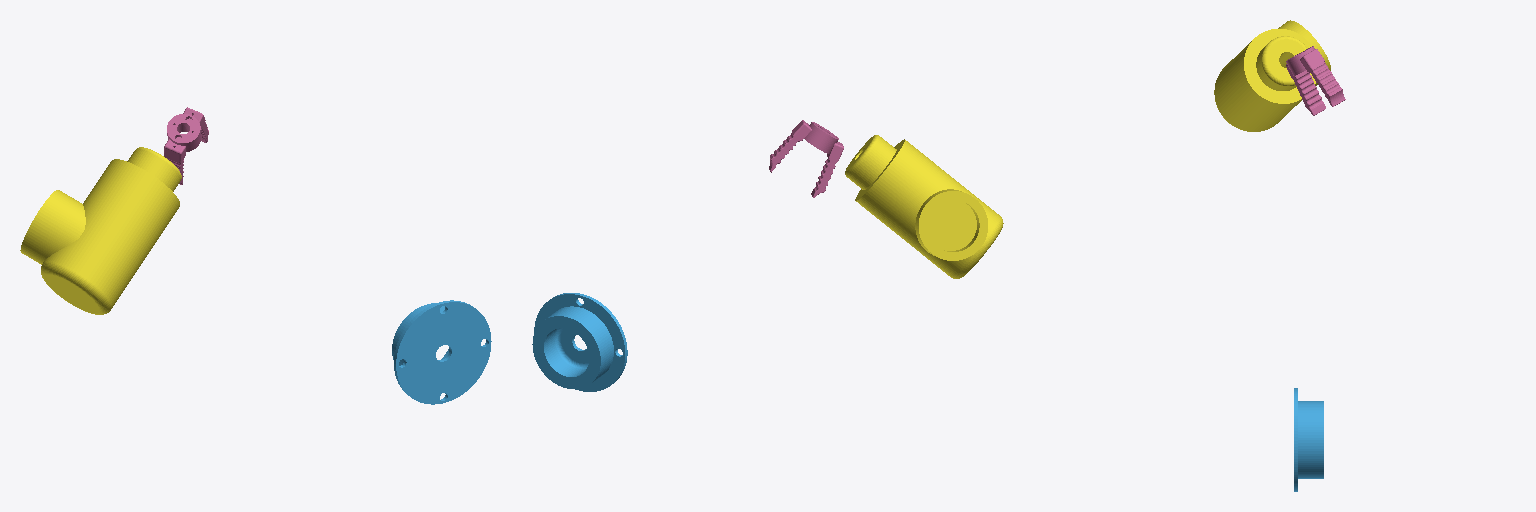
The robot description file, URDF, robot "cobot":
<?xml version="1.0" encoding="utf-8"?>
<robot name="cobot">
  <link name="world" />
  <joint name="world_to_base" type="fixed">
    <parent link="world" />
    <child link="Body-Part1" />
    <origin xyz="0 0 0" rpy="0 0 0" />
  </joint>
  <link name="Body-Part1">
    <inertial>
      <origin xyz="-0.1798447952718103 0.022925426242011514 0.05601229960108434" rpy="0.0 0.0 0.0" />
      <mass value="422.4347651248121" />
      <inertia ixx="9.896088052743277" iyy="20.291431120539166" izz="17.448775357377386" ixy="-0.006594014792010938" iyz="-0.029766263287707595" ixz="1.6908908131017018" />
    </inertial>
    <visual name="Body-Part1_visual">
      <origin xyz="0.0 0.0 0.0" rpy="0.0 0.0 0.0" />
      <geometry>
        <mesh filename="package://cobot_description/meshes/base_link.stl" scale="0.001 0.001 0.001" />
      </geometry>
    </visual>
    <collision name="Body-Part1_collision">
      <origin xyz="0.0 0.0 0.0" rpy="0.0 0.0 0.0" />
      <geometry>
        <mesh filename="package://cobot_description/meshes/base_link.stl" scale="0.001 0.001 0.001" />
      </geometry>
    </collision>
  </link>
  <link name="base_link">
    <inertial>
      <origin xyz="0.006870688994763867 -0.005531219751294145 -0.0021944495914763707" rpy="0.0 -0.0 -8.552847072295024e-50" />
      <mass value="1.283275730441828" />
      <inertia ixx="0.0016574728754616963" iyy="0.0014840837775329518" izz="0.0012156550539494941" ixy="-0.0003961949817083974" iyz="0.00012666650220438674" ixz="-0.00015712887410335172" />
    </inertial>
    <visual name="base_link_visual">
      <origin xyz="-0.0037797096782331606 0.0030422599118649883 0.001207660340673442" rpy="-0.2839560395694217 -0.5313221121934603 -2.1017094505019887" />
      <geometry>
        <mesh filename="package://cobot_description/meshes/link.stl" scale="0.001 0.001 0.001" />
      </geometry>
    </visual>
    <collision name="base_link_collision">
      <origin xyz="-0.0037797096782331606 0.0030422599118649883 0.001207660340673442" rpy="-0.2839560395694217 -0.5313221121934603 -2.1017094505019887" />
      <geometry>
        <mesh filename="package://cobot_description/meshes/link.stl" scale="0.001 0.001 0.001" />
      </geometry>
    </collision>
  </link>
  <joint name="base_mount_joint" type="fixed">
    <parent link="Body-Part1" />
    <child link="base_link" />
    <origin xyz="-0.352567 -0.001200 0.289500" rpy="1.570796 0.000000 3.141593" />
  </joint>
  <link name="Base-joint">
    <inertial>
      <origin xyz="0.07906246720197074 -0.020958663407325134 0.05969701437848556" rpy="0.0 -4.276423536147512e-50 0.0" />
      <mass value="2.718644742184274" />
      <inertia ixx="0.005113774456599884" iyy="0.00790394349393253" izz="0.006619139994444193" ixy="0.0005415750689647954" iyz="0.0006762993227225063" ixz="-0.002148051938121843" />
    </inertial>
    <visual name="Base-joint_visual">
      <origin xyz="0.026457947624332546 -0.008453644700357046 0.021295846268547792" rpy="2.4230895408976956 0.3915017115390629 0.9394914940446593" />
      <geometry>
        <mesh filename="package://cobot_description/meshes/Base-joint.stl" scale="0.001 0.001 0.001" />
      </geometry>
    </visual>
    <collision name="Base-joint_collision">
      <origin xyz="0.026457947624332546 -0.008453644700357046 0.021295846268547792" rpy="2.4230895408976956 0.3915017115390629 0.9394914940446593" />
      <geometry>
        <mesh filename="package://cobot_description/meshes/Base-joint.stl" scale="0.001 0.001 0.001" />
      </geometry>
    </collision>
  </link>
  <joint name="joint1_yaw" type="revolute">
    <parent link="base_link" />
    <child link="Base-joint" />
    <origin xyz="0.008722 0.027994 -0.006346" rpy="1.570796 0.000000 0.000000" />
    <axis xyz="-0.290729 0.211532 0.933130" />
    <limit lower="-2.9671" upper="2.9671" effort="50" velocity="3.1416" />
  </joint>
  <link name="LINK-1">
    <inertial>
      <origin xyz="0.0036172018418770824 0.1791043745725443 0.00010547726635438959" rpy="0.0 0.0 0.0" />
      <mass value="2.0935672304320274" />
      <inertia ixx="0.060681709519814116" iyy="0.0023269856230591556" izz="0.06092470305114679" ixy="0.000806162174783704" iyz="8.745360326936368e-05" ixz="-2.2778526178124717e-06" />
    </inertial>
    <visual name="LINK-1_visual">
      <origin xyz="0.0 0.0 0.0" rpy="0.0 0.0 0.0" />
      <geometry>
        <mesh filename="package://cobot_description/meshes/link_1.stl" scale="0.001 0.001 0.001" />
      </geometry>
    </visual>
    <collision name="LINK-1_collision">
      <origin xyz="0.0 0.0 0.0" rpy="0.0 0.0 0.0" />
      <geometry>
        <mesh filename="package://cobot_description/meshes/link_1.stl" scale="0.001 0.001 0.001" />
      </geometry>
    </collision>
  </link>
  <joint name="link1_fixed" type="fixed">
    <parent link="Base-joint" />
    <child link="LINK-1" />
    <origin xyz="0 0 0" rpy="0 0 0" />
  </joint>
  <link name="Link-2">
    <inertial>
      <origin xyz="-0.09286512506580102 -0.09774880102912561 -0.10480852715020213" rpy="0.0 -0.0 0.0" />
      <mass value="2.7611722846701063" />
      <inertia ixx="0.0370528965880821" iyy="0.03248509756838082" izz="0.016110620406984744" ixy="-0.006767614595994515" iyz="-0.015580764800668282" ixz="-0.011143845061937888" />
    </inertial>
    <visual name="Link-2_visual">
      <origin xyz="-0.04668970893683678 -0.032296287106535856 0.0052014742195400036" rpy="-1.8480802237151115 0.5770362291659613 0.47270599385218454" />
      <geometry>
        <mesh filename="package://cobot_description/meshes/link_2.stl" scale="0.001 0.001 0.001" />
      </geometry>
    </visual>
    <collision name="Link-2_collision">
      <origin xyz="-0.04668970893683678 -0.032296287106535856 0.0052014742195400036" rpy="-1.8480802237151115 0.5770362291659613 0.47270599385218454" />
      <geometry>
        <mesh filename="package://cobot_description/meshes/link_2.stl" scale="0.001 0.001 0.001" />
      </geometry>
    </collision>
  </link>
  <joint name="joint2_pitch" type="revolute">
    <parent link="LINK-1" />
    <child link="Link-2" />
    <origin xyz="-0.044285 0.012866 0.009074" rpy="3.141593 0.000000 0.000000" />
    <axis xyz="0 0 1" />
    <limit lower="-2.9671" upper="2.9671" effort="50" velocity="3.1416" />
  </joint>
  <joint name="joint3_pitch" type="revolute">
    <parent link="Link-2" />
    <child link="EE-Part3" />
    <origin xyz="0.006880 -0.000910 0.034880" rpy="0.000000 0.000000 0.000000" />
    <axis xyz="0 0 1" />
    <limit lower="-2.9671" upper="2.9671" effort="50" velocity="3.1416" />
  </joint>
  <link name="EE-Part3">
    <inertial>
      <origin xyz="-0.008134808669770592 -0.011526649620466003 -0.019172604721381284" rpy="3.0814879110195774e-33 -0.0 0.0" />
      <mass value="0.11471086514890157" />
      <inertia ixx="6.303422501133249e-05" iyy="7.814267096614008e-05" izz="5.780737151453441e-05" ixy="-1.8413085054375108e-05" iyz="-3.0109795899346738e-06" ixz="9.786132655719215e-06" />
    </inertial>
    <visual name="EE-Part3_visual">
      <origin xyz="-1.7061099555348847e-09 -1.0803324812513892e-09 2.336619857601363e-09" rpy="-2.7435087131180795 0.9374820933505307 -2.188020878043835" />
      <geometry>
        <mesh filename="package://cobot_description/meshes/EE-Part3.stl" scale="0.001 0.001 0.001" />
      </geometry>
    </visual>
    <collision name="EE-Part3_collision">
      <origin xyz="-1.7061099555348847e-09 -1.0803324812513892e-09 2.336619857601363e-09" rpy="-2.7435087131180795 0.9374820933505307 -2.188020878043835" />
      <geometry>
        <mesh filename="package://cobot_description/meshes/EE-Part3.stl" scale="0.001 0.001 0.001" />
      </geometry>
    </collision>
  </link>
</robot>

--- Render facts (derived) ---
3 views of the same robot in one strip: view 1: azimuth 30°, elevation 25°; view 2: azimuth 150°, elevation 25°; view 3: azimuth 270°, elevation 25° (orthographic).
Model cobot with 7 links and 6 joints (3 revolute, 3 fixed), rooted at world, posed every joint at zero.
Links seen in each view (by area): view 1: Base-joint, Body-Part1, EE-Part3; view 2: Base-joint, Body-Part1, EE-Part3; view 3: Base-joint, Body-Part1, EE-Part3.
Boxes of the visible links, left/top/right/bottom form: Base-joint: left=20, top=147, right=181, bottom=314; Body-Part1: left=392, top=300, right=491, bottom=404; EE-Part3: left=164, top=107, right=208, bottom=184; Base-joint: left=845, top=135, right=1003, bottom=278; Body-Part1: left=532, top=293, right=627, bottom=391; EE-Part3: left=769, top=120, right=843, bottom=197; Base-joint: left=1214, top=20, right=1330, bottom=131; Body-Part1: left=1294, top=388, right=1323, bottom=491; EE-Part3: left=1286, top=46, right=1345, bottom=115.
Bounding box of the posed robot: 0.5921 × 0.1523 × 0.4169 m (x, y, z).
3 mesh visuals loaded from 6 distinct referenced files (3 binary STL); not drawn: 3 (reference not matched to a file when rendering).
